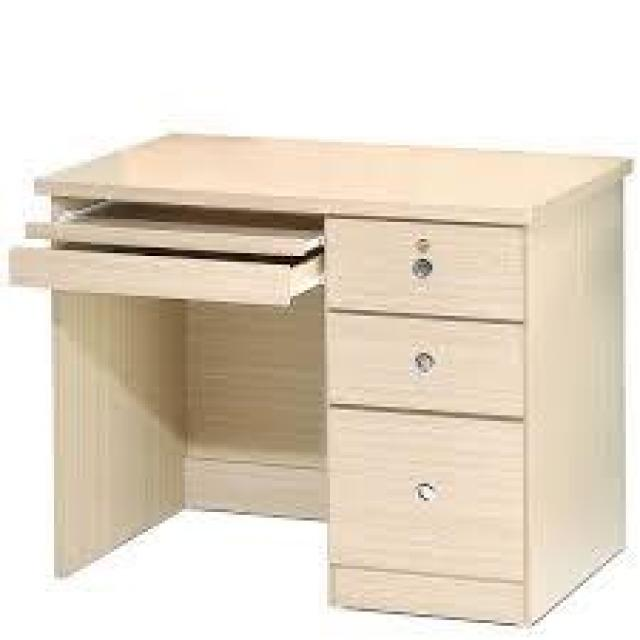desk: (7, 78, 622, 619)
